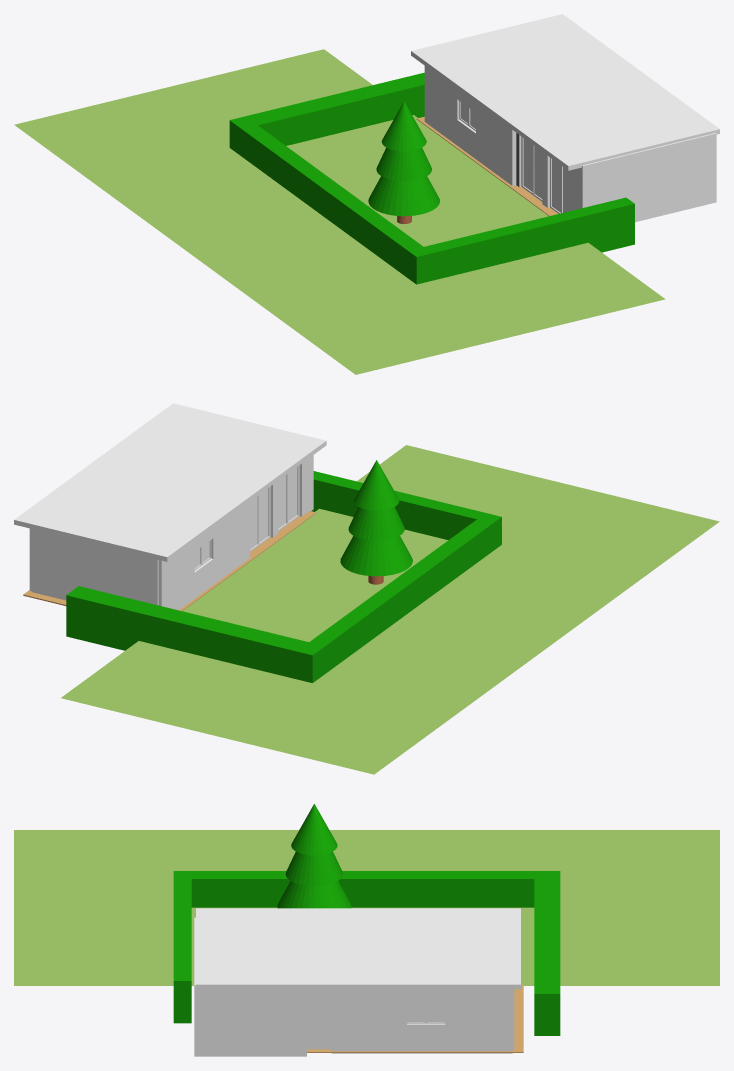
The model's file is kitchen_optimized.glb.
3 views of the same model, one above another, from view 1: azimuth 30°, elevation 25°; view 2: azimuth 150°, elevation 25°; view 3: azimuth 270°, elevation 25° (orthographic). The views are drawn at different scales.
Visible parts, largest first — view 1: Cylinder.002, transparentBigWindow; view 2: Cylinder.002, transparentBigWindow; view 3: Cylinder.002, transparentSmallWindow2.
Part boxes in pixels (x1,y1,x2,y2): Cylinder.002: [14, 14, 719, 374]; transparentBigWindow: [523, 138, 570, 212]; Cylinder.002: [14, 403, 719, 774]; transparentBigWindow: [250, 467, 297, 548]; Cylinder.002: [14, 804, 719, 1056]; transparentSmallWindow2: [408, 1004, 443, 1021].
Size of the model in its own units: 23.23 by 6.55 by 30.4.
